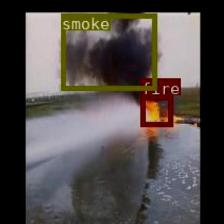fire: (140, 95, 172, 126)
smoke: (60, 13, 156, 90)
